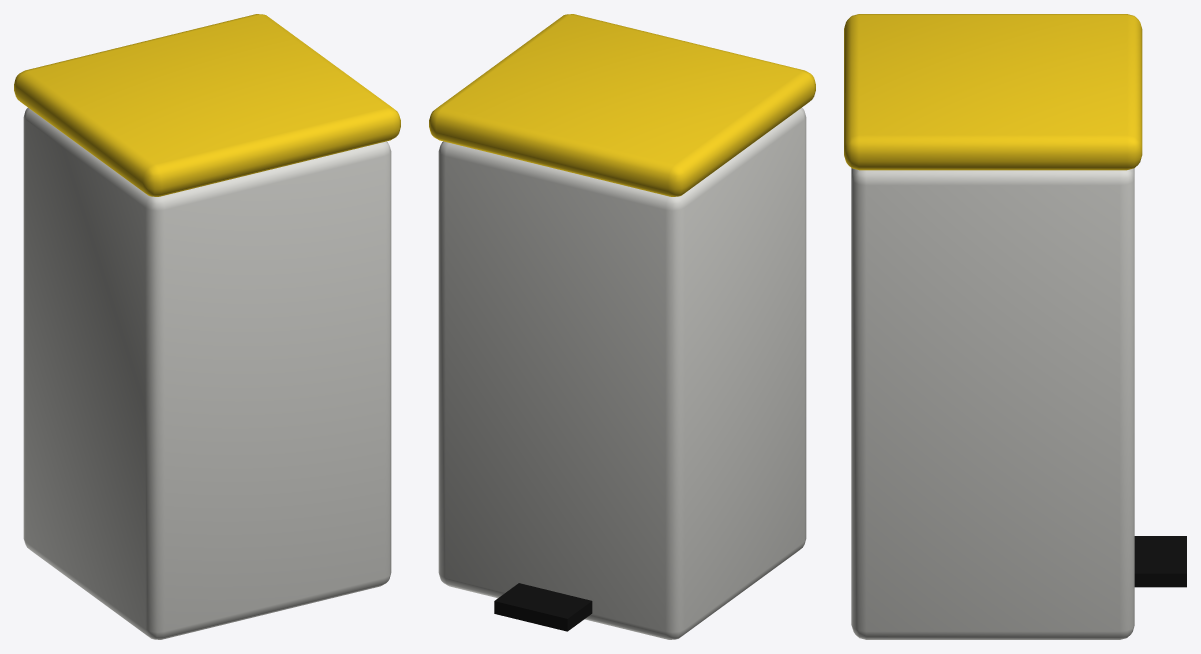
File: hospital.ward.clinical_bin.glb
3 renders of one model, left to right at view 1: azimuth 30°, elevation 25°; view 2: azimuth 150°, elevation 25°; view 3: azimuth 270°, elevation 25°, orthographic. The views are drawn at different scales.
Parts seen in each view (by area): view 1: main__paint_white, main__plastic_yellow; view 2: main__paint_white, main__plastic_yellow, main__plastic_black; view 3: main__paint_white, main__plastic_yellow, main__plastic_black.
Boxes of the visible parts, x1,y1,x2,y2 form: main__paint_white: (23,108,391,639); main__plastic_yellow: (14,14,400,196); main__paint_white: (438,108,806,639); main__plastic_yellow: (429,14,815,196); main__plastic_black: (494,583,592,631); main__paint_white: (851,168,1134,639); main__plastic_yellow: (844,14,1142,170); main__plastic_black: (1134,536,1186,587).
Bounding box in the file's own units: 0.42 × 0.75 × 0.46.
